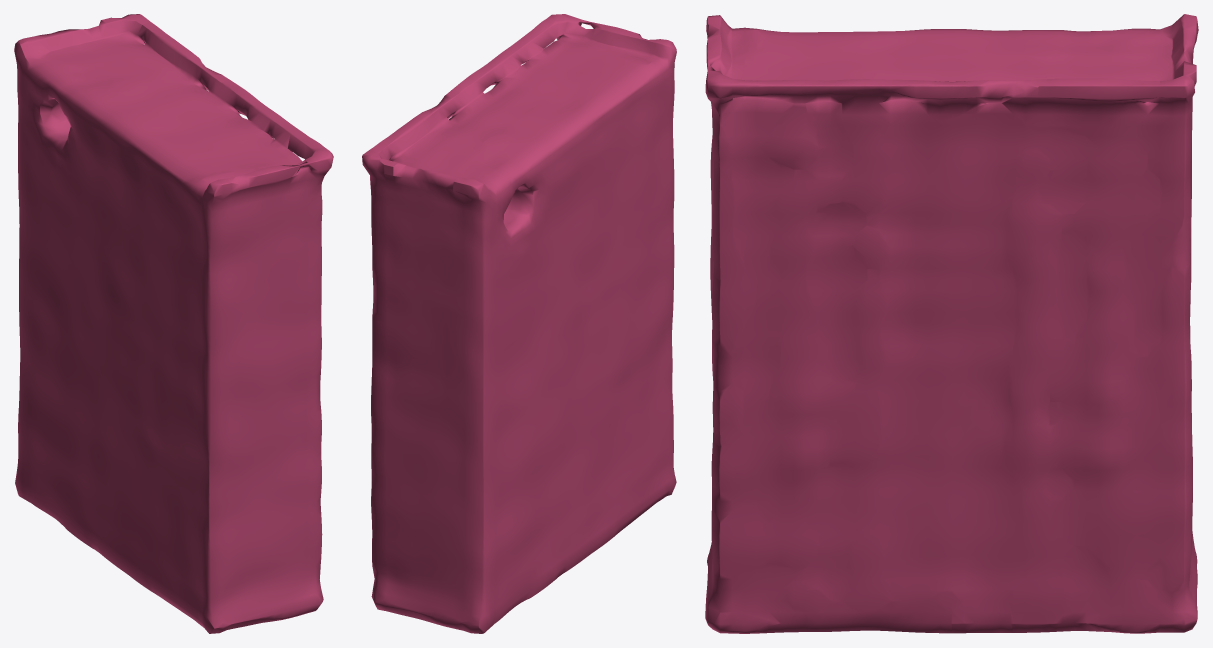
Rendered from wardrobe_13_3.obj.
The picture shows the model from 3 angles, left to right: view 1: azimuth 30°, elevation 25°; view 2: azimuth 150°, elevation 25°; view 3: azimuth 270°, elevation 25°; orthographic projection. The views are drawn at different scales.
Size of the model in its own units: 0.2308 by 0.7948 by 0.6311.
